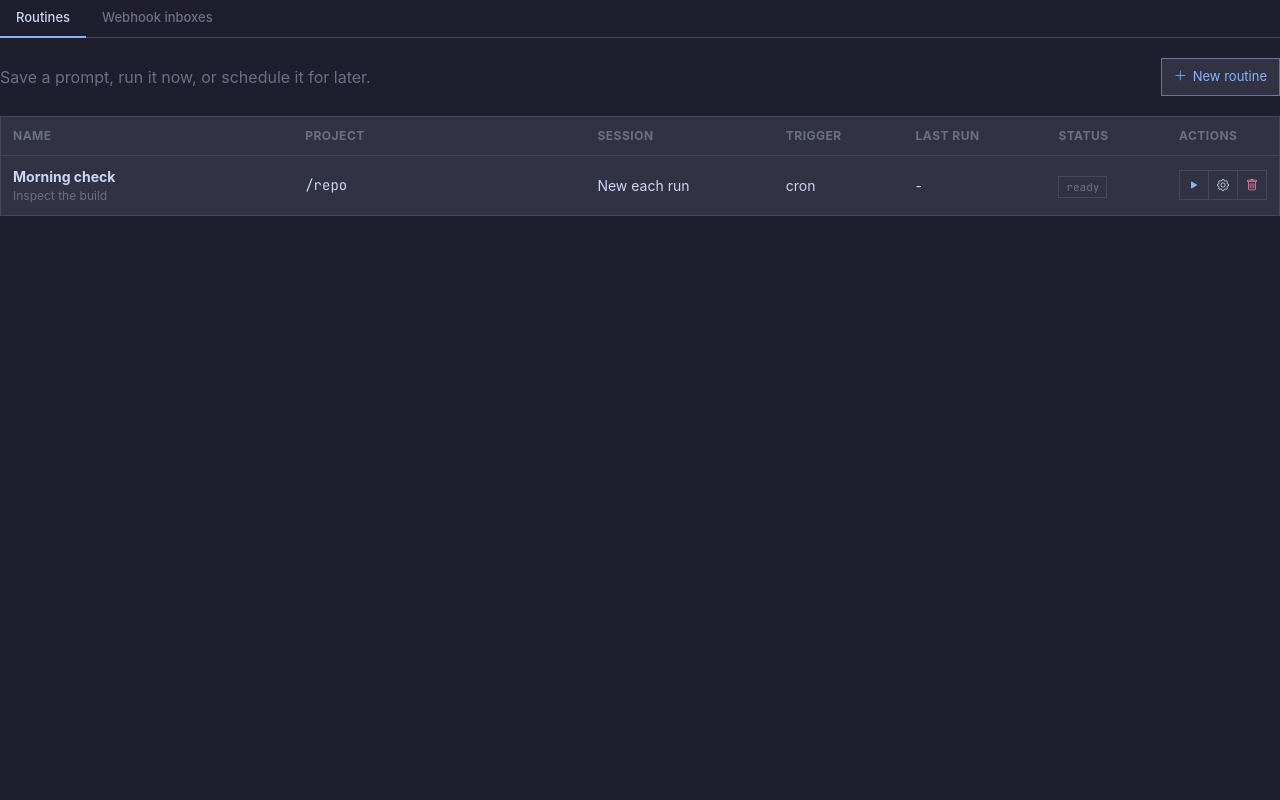
it: Routines › retains the stored agent and model when their catalog cannot load
Step 1. Click the button named "Settings" → (1222,185), box top-left (1208, 171), bottom-right (1237, 199)
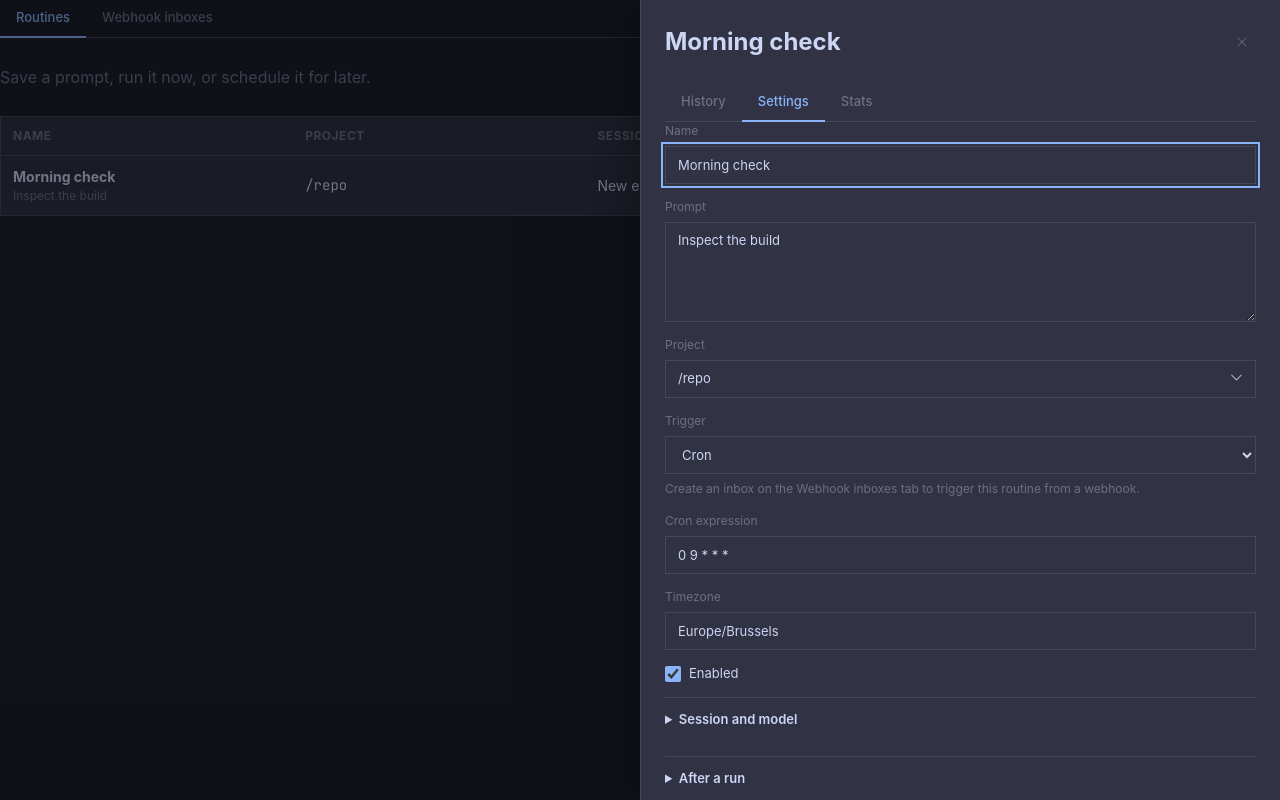
Step 2. Click the heading "Session and model" → (738,719), box top-left (679, 711), bottom-right (797, 727)
(page scrolled)
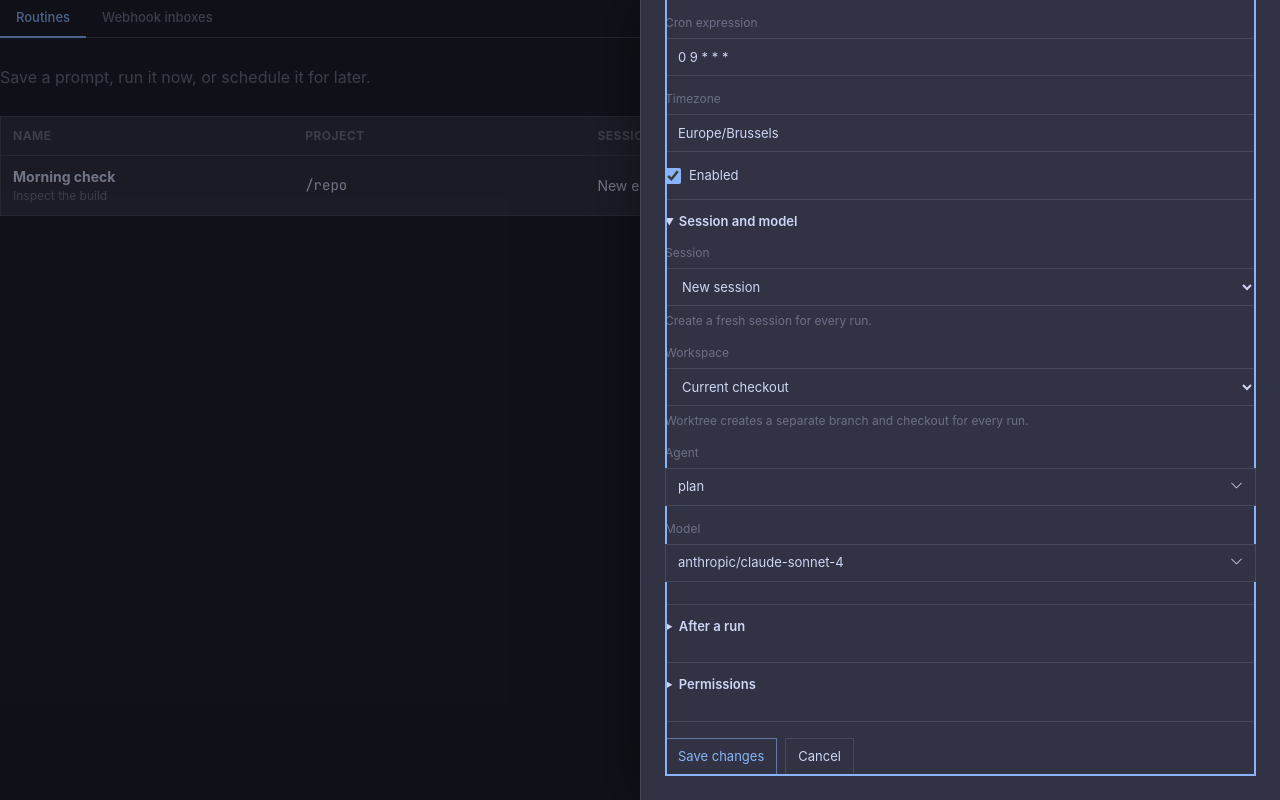
Expected: the dropdown named "Agent" is enabled, top-left (665, 468), bottom-right (1256, 506)
Expected: the dropdown named "Agent" reads "plan", top-left (665, 468), bottom-right (1256, 506)
Expected: the dropdown named "Model" reads "anthropic/claude-sonnet-4", top-left (665, 544), bottom-right (1256, 582)
